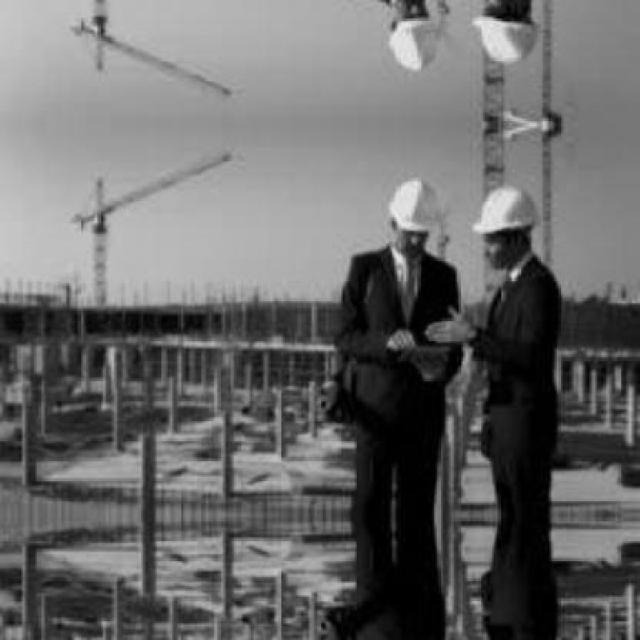helmet: (465, 183, 537, 266), (382, 172, 444, 260), (463, 0, 537, 68), (380, 0, 444, 78)
